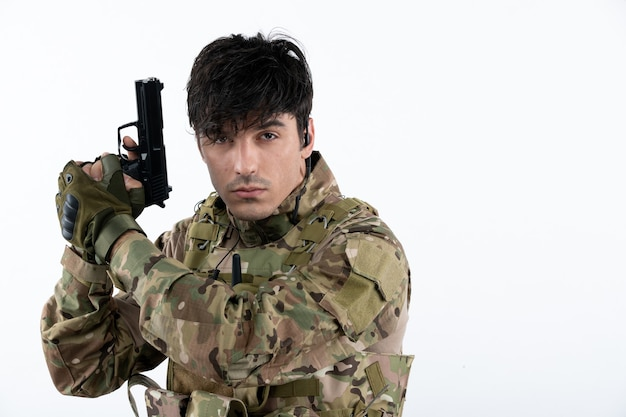gun: (116, 77, 173, 209)
